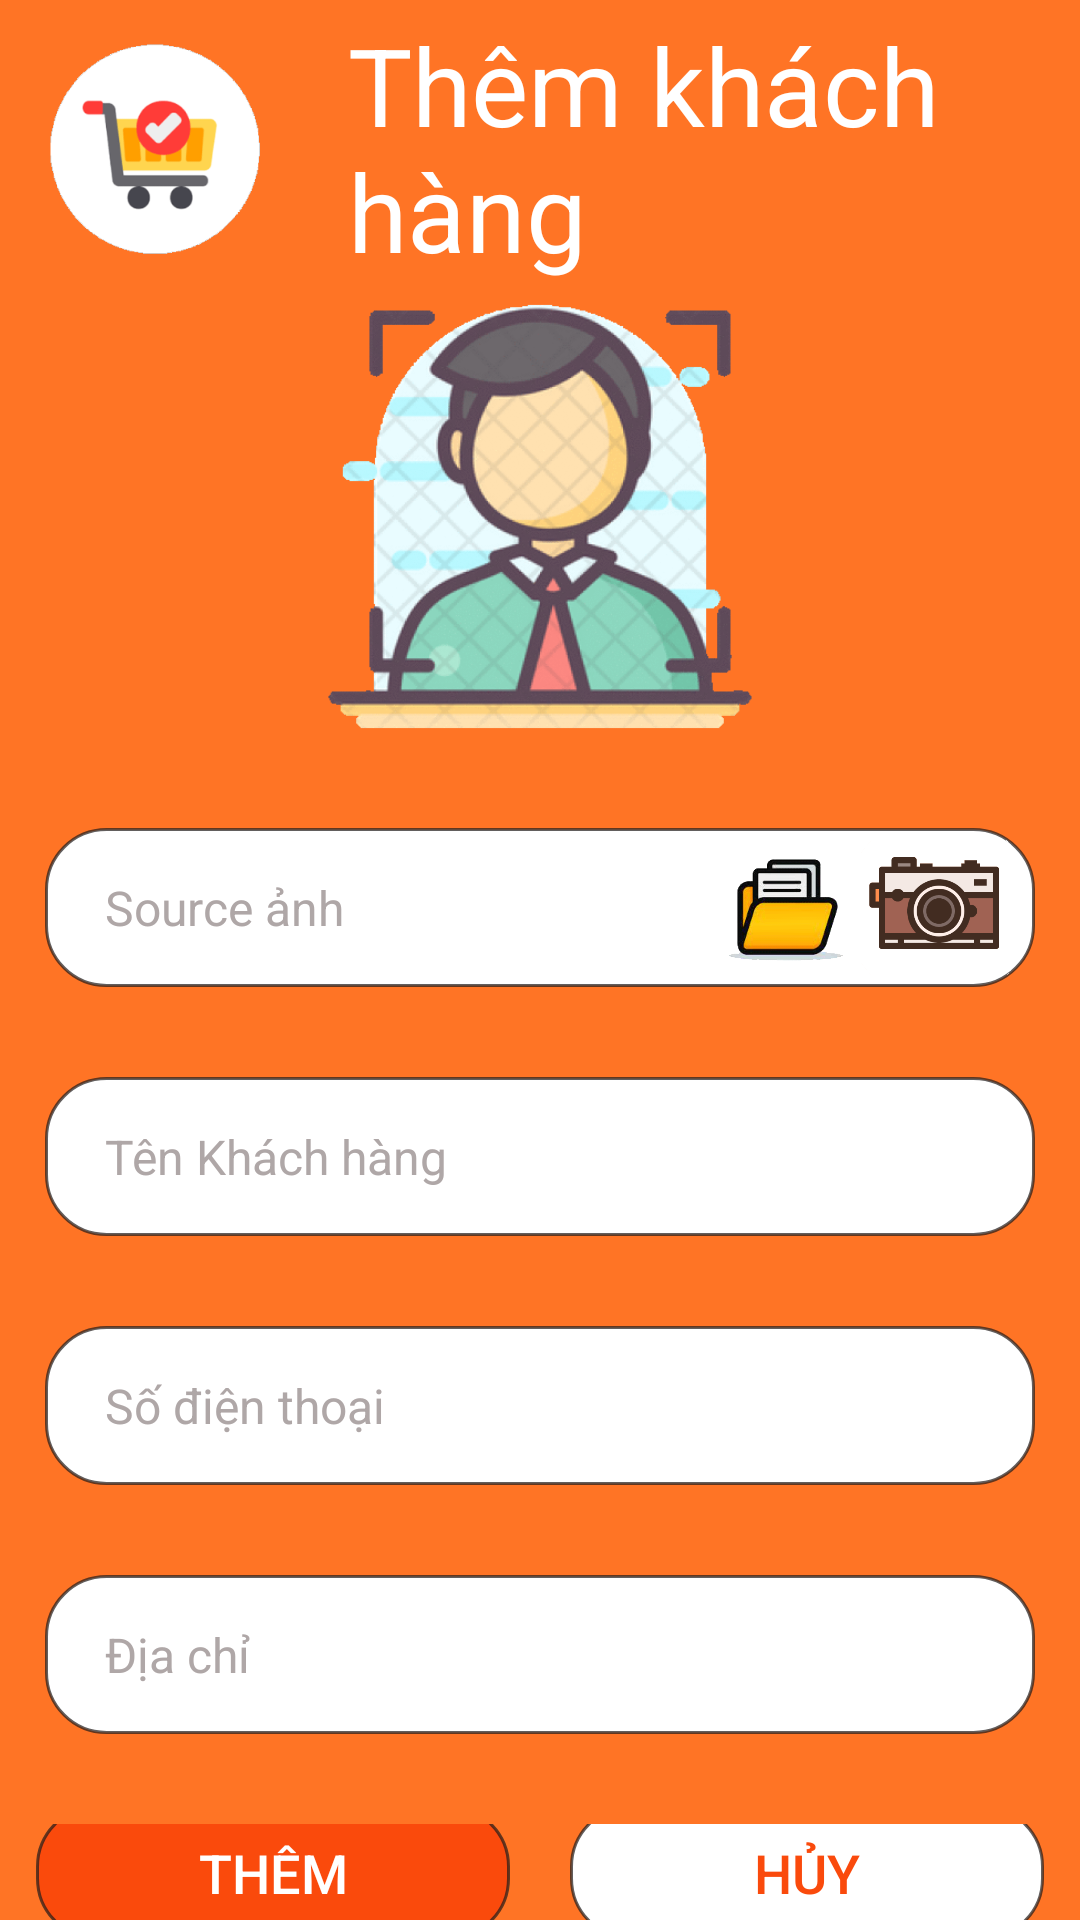

Where to tap for icons on this 1080×1920 app screen, as [x,y]:
camera: [936,907]
folder: [786,907]
